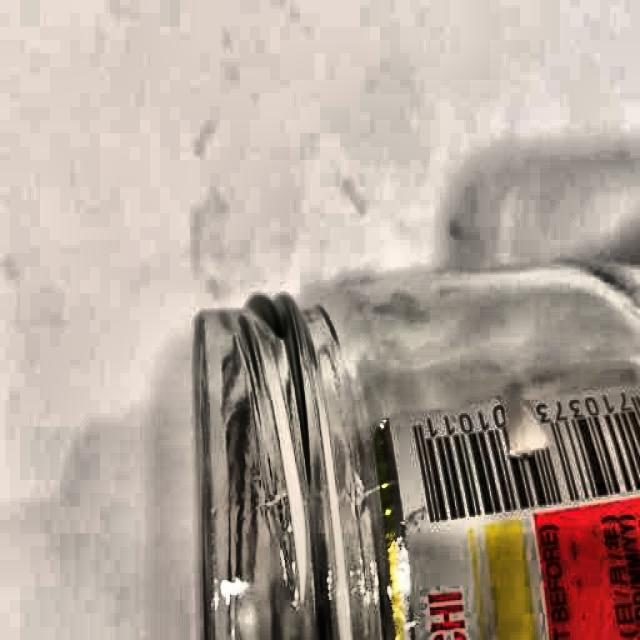glass: (188, 264, 640, 640)
